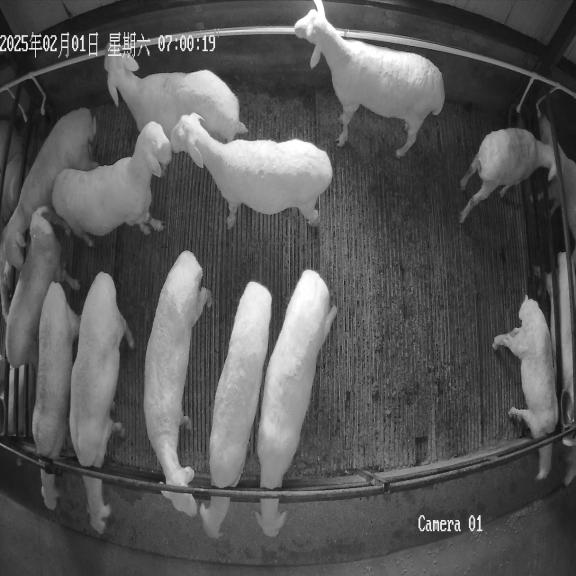eating: (255, 270, 337, 537), (200, 282, 272, 539), (144, 251, 212, 516), (69, 272, 134, 534), (492, 297, 558, 480), (32, 282, 80, 510)
stand: (294, 0, 445, 158), (171, 113, 332, 228), (2, 108, 97, 268), (104, 44, 248, 141), (52, 122, 171, 236), (6, 207, 64, 368), (460, 128, 554, 223)
